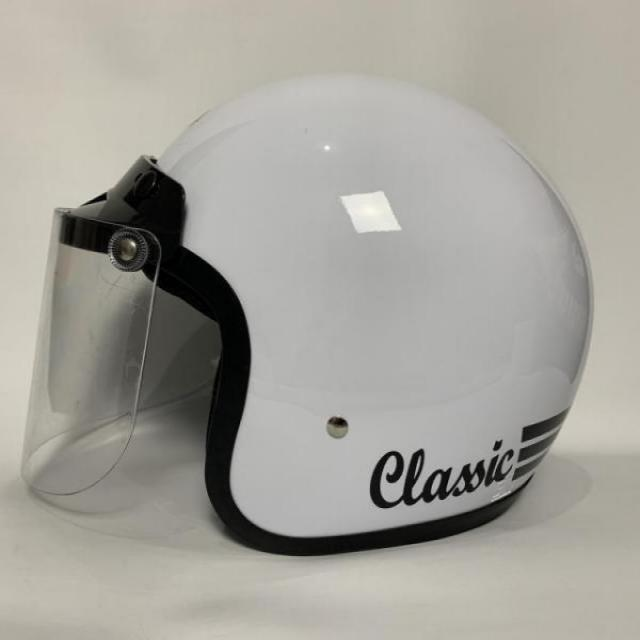Helmet: (45, 68, 597, 555)
